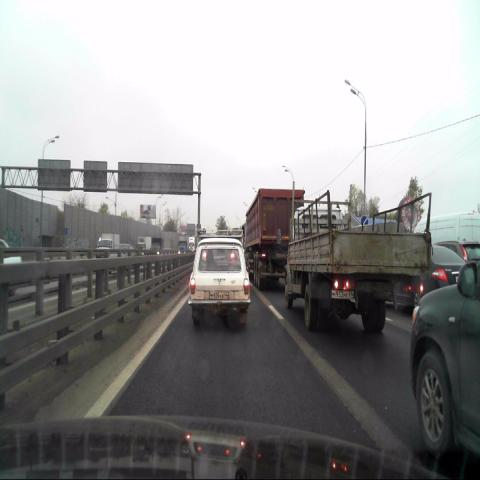4_2_2: (360, 216, 368, 229)
